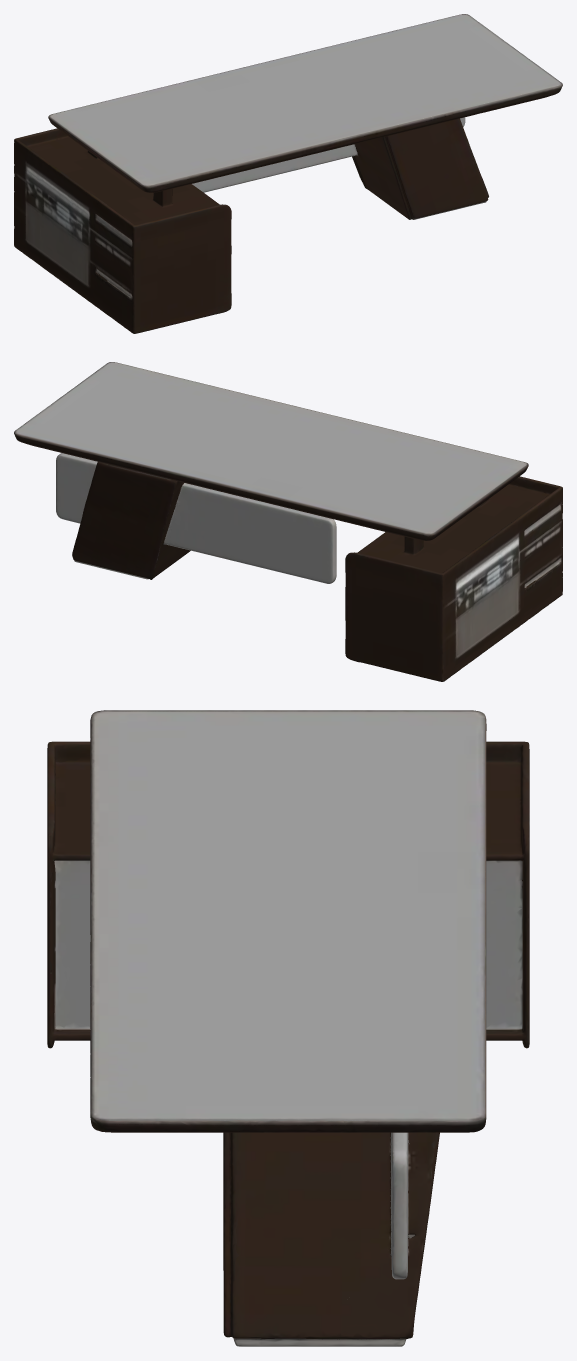
3 views of the same model, one above another, from view 1: azimuth 30°, elevation 25°; view 2: azimuth 150°, elevation 25°; view 3: azimuth 270°, elevation 25° (orthographic). The views are drawn at different scales.
Parts seen in each view (by area): view 1: world; view 2: world; view 3: world.
Part boxes in pixels (left/top/right/bottom): world: left=14, top=14, right=562, bottom=333; world: left=14, top=362, right=562, bottom=681; world: left=47, top=710, right=529, bottom=1346.
Size of the model in its own units: 1 by 0.2914 by 0.4736.
Materials: 1 (1 with a texture image).
